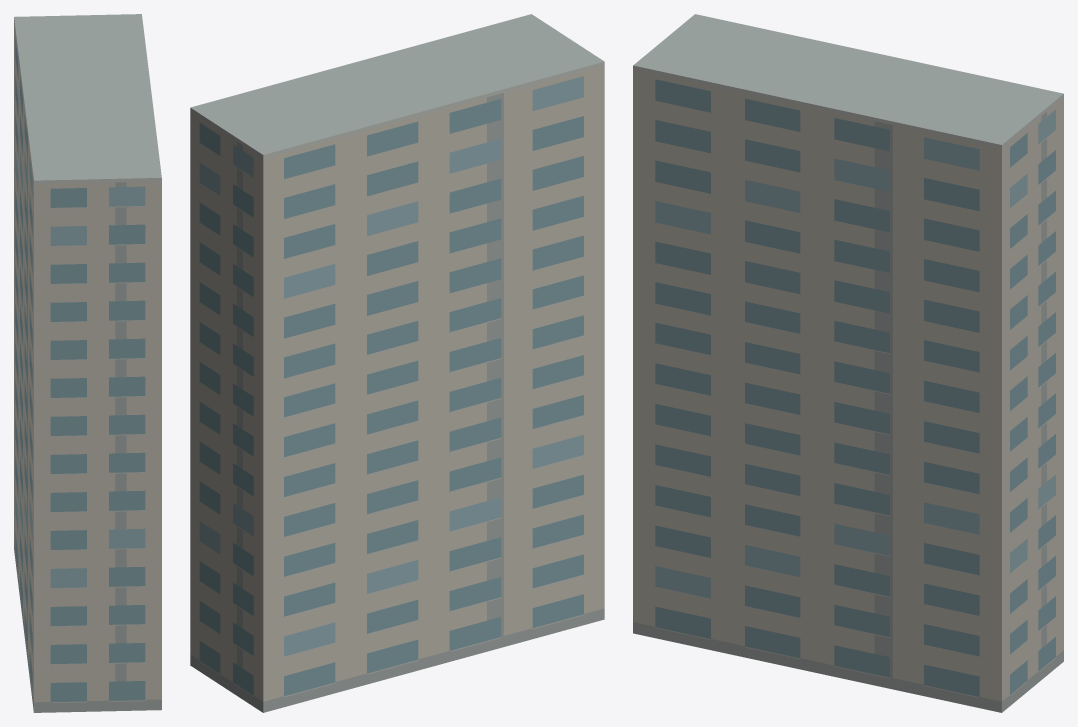
Rendered from residential-d82b47d7-f062-42f3-93aa-ffa6a5225c5e.glb.
3 views of the same model, side by side, from view 1: azimuth 30°, elevation 25°; view 2: azimuth 150°, elevation 25°; view 3: azimuth 270°, elevation 25° (orthographic). The views are drawn at different scales.
Visible parts, largest first — view 1: residential-d82b47d7-f062-42f3-93aa-ffa6a5225c5e.tmp; view 2: residential-d82b47d7-f062-42f3-93aa-ffa6a5225c5e.tmp; view 3: residential-d82b47d7-f062-42f3-93aa-ffa6a5225c5e.tmp.
Boxes of the visible parts, x1,y1,x2,y2 form: residential-d82b47d7-f062-42f3-93aa-ffa6a5225c5e.tmp: (14,14,161,712); residential-d82b47d7-f062-42f3-93aa-ffa6a5225c5e.tmp: (190,14,604,712); residential-d82b47d7-f062-42f3-93aa-ffa6a5225c5e.tmp: (633,14,1063,712).
Bounding box in the file's own units: 18.32 × 37 × 25.45.
